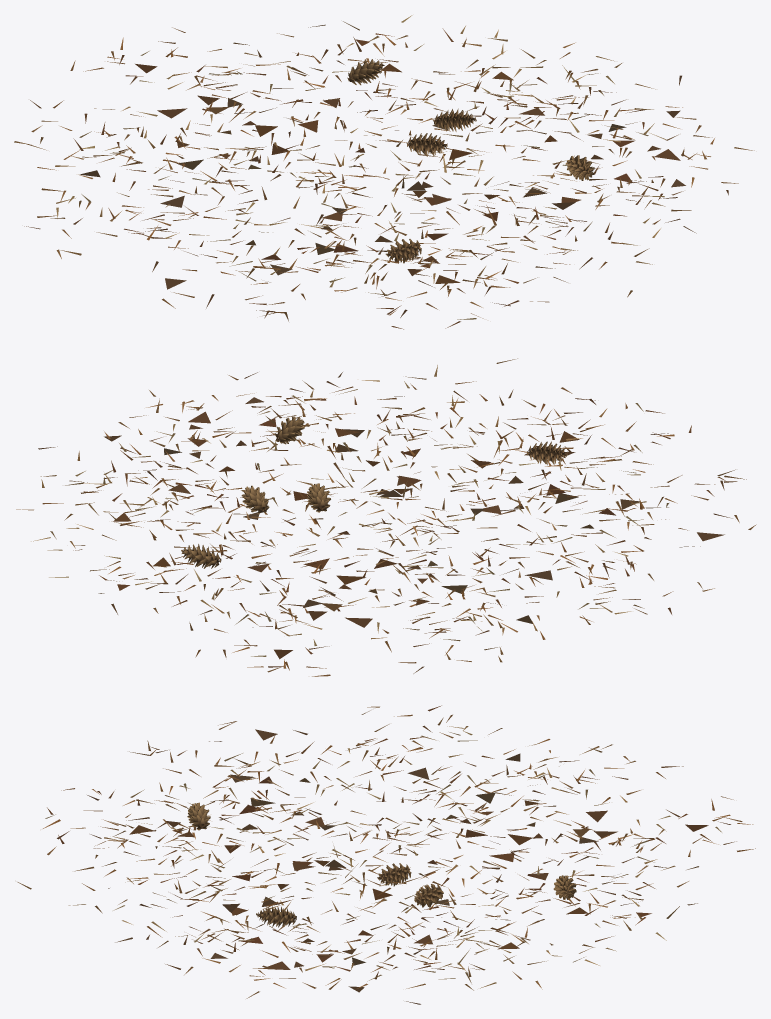
Rendered from litter-conifer-a.lod0.glb.
The picture shows the model from 3 angles, top to bottom: view 1: azimuth 30°, elevation 25°; view 2: azimuth 150°, elevation 25°; view 3: azimuth 270°, elevation 25°; orthographic projection. The views are drawn at different scales.
Bounding box in the file's own units: 1.94 × 0.0876 × 2.03.
